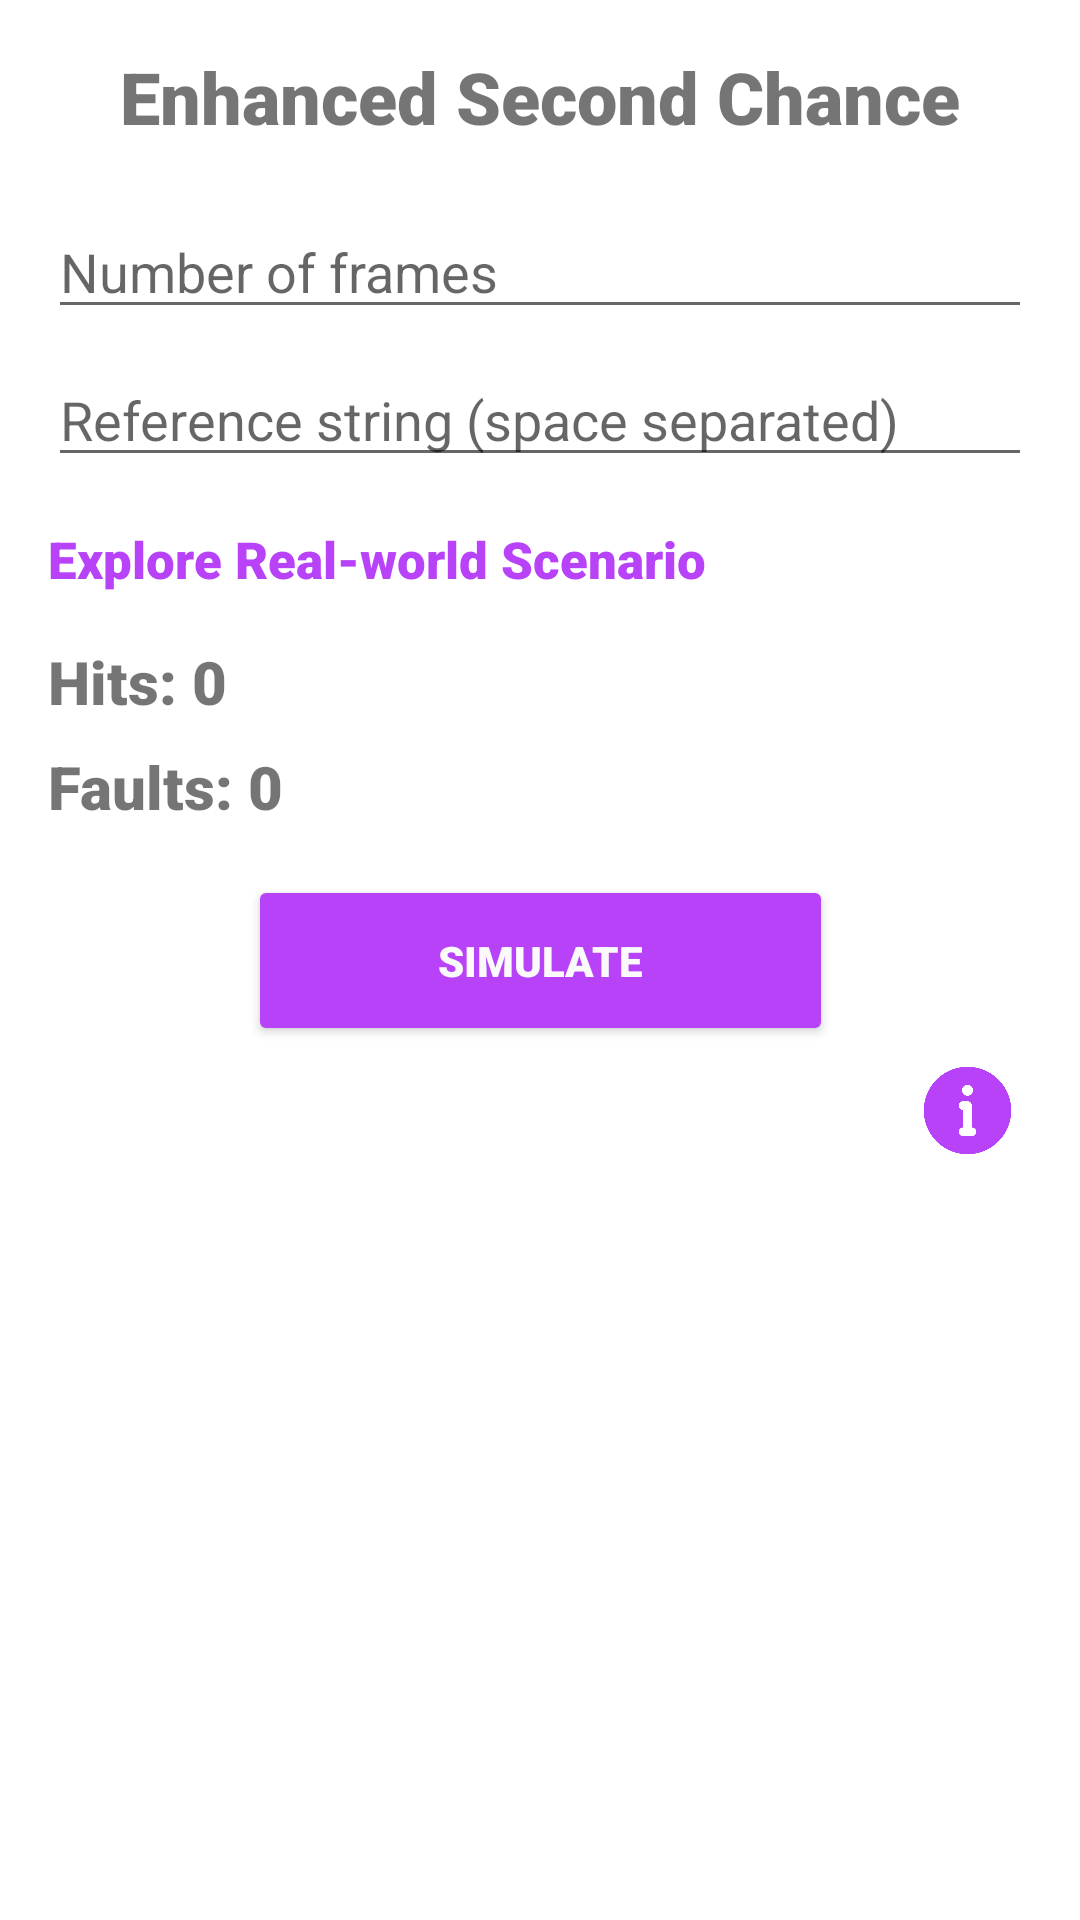

Named icons in this screenshot (1080 x 1920) and their centers, [x,y]:
information: [967,1110]
